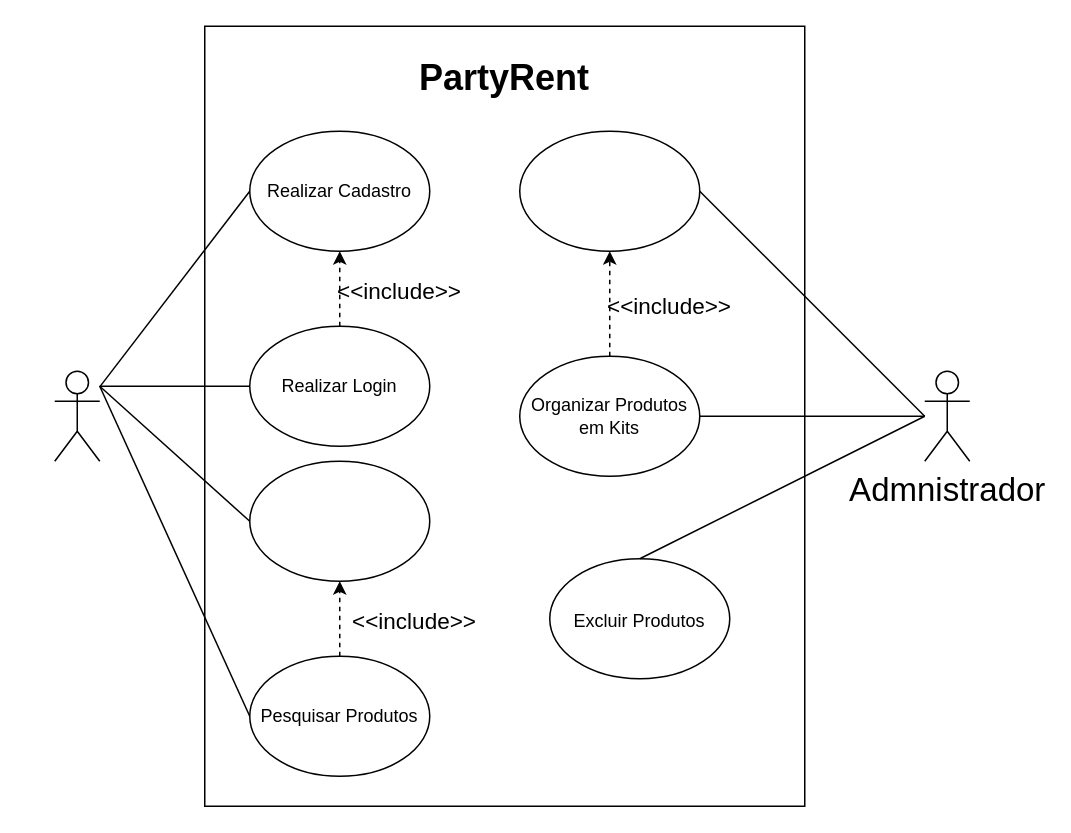
The diagram is 1071 pixels wide and 833 high, and some of its shapes have lost their labels. The shapes that lost their labels are listed below. From the top down, each one's centre as x and y in pixels, then its label:
At point 609,190: "Cadastrar Produtos".
At point 76,415: "Cliente".
At point 339,520: "Reservar Produtos para Aluguel".
